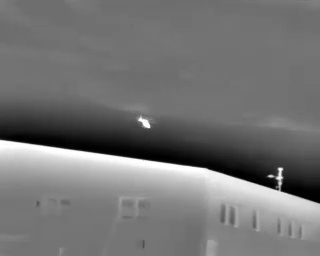HELICOPTER: (134, 111, 160, 134)
